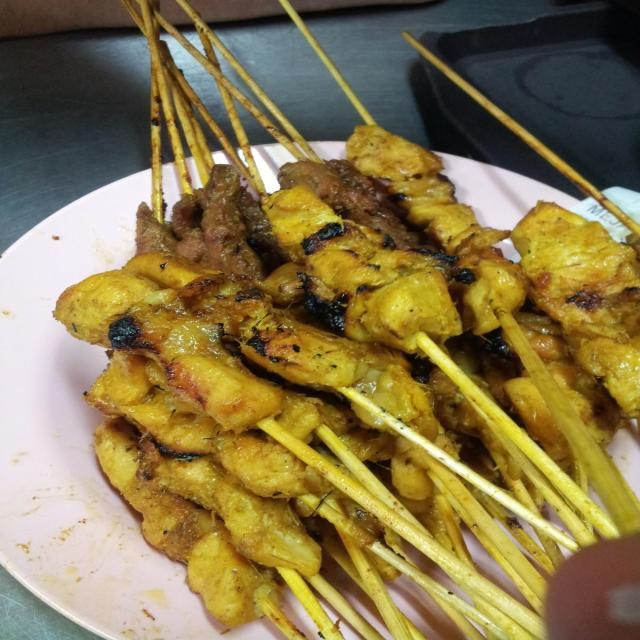Sate: (102, 0, 640, 640)
